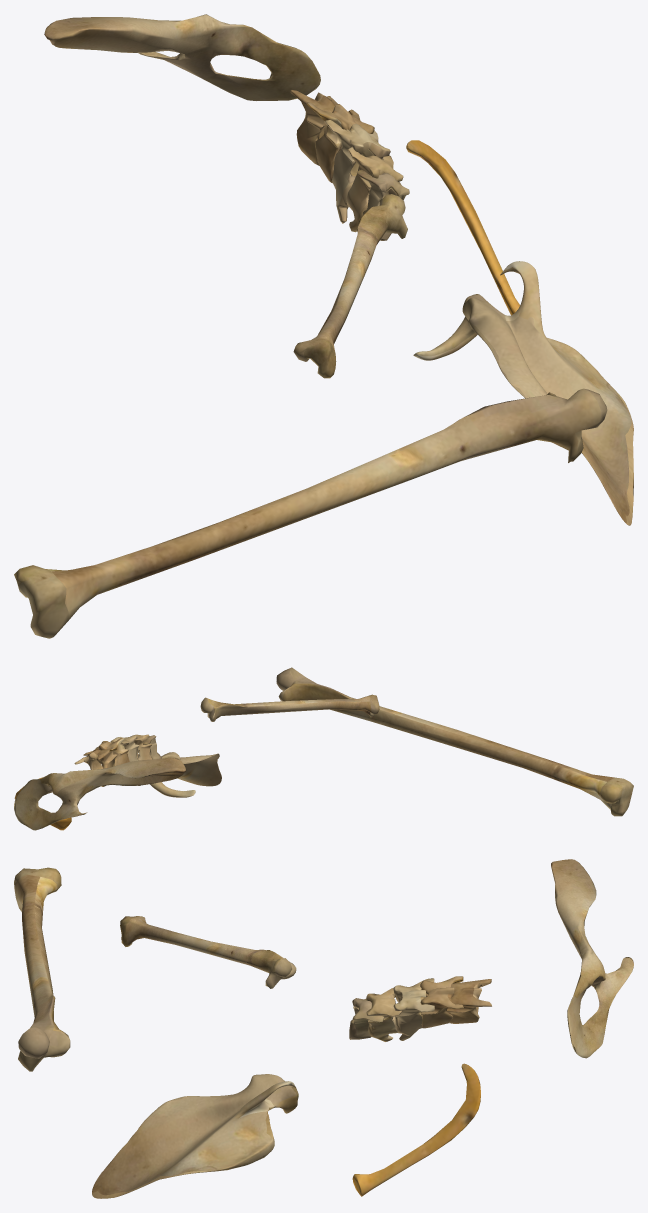
File: bones_v01.fbx
3 renders of one model, top to bottom at view 1: azimuth 30°, elevation 25°; view 2: azimuth 150°, elevation 25°; view 3: azimuth 270°, elevation 25°, orthographic. The views are drawn at different scales.
Visible parts, largest first — view 1: h_femur_msh (×2), g_omoplato_msh, i_pelvis_msh, j_vertebras_msh, k_Clavicula_msh; view 2: h_femur_msh (×2), i_pelvis_msh, j_vertebras_msh, g_omoplato_msh; view 3: g_omoplato_msh, h_femur_msh (×2), i_pelvis_msh, j_vertebras_msh, k_Clavicula_msh.
Boxes of the visible parts, <box> form: h_femur_msh (×2): <box>14,194,607,638</box>; g_omoplato_msh: <box>413,261,633,525</box>; i_pelvis_msh: <box>44,14,320,100</box>; j_vertebras_msh: <box>290,89,409,240</box>; k_Clavicula_msh: <box>406,140,519,315</box>; h_femur_msh (×2): <box>200,667,633,816</box>; i_pelvis_msh: <box>14,757,185,830</box>; j_vertebras_msh: <box>74,734,161,786</box>; g_omoplato_msh: <box>122,752,221,797</box>; g_omoplato_msh: <box>92,1074,298,1198</box>; h_femur_msh (×2): <box>14,867,296,1071</box>; i_pelvis_msh: <box>551,859,633,1058</box>; j_vertebras_msh: <box>349,976,491,1041</box>; k_Clavicula_msh: <box>352,1063,480,1196</box>.
Size of the model in its own units: 11.92 by 5.15 by 11.78.
